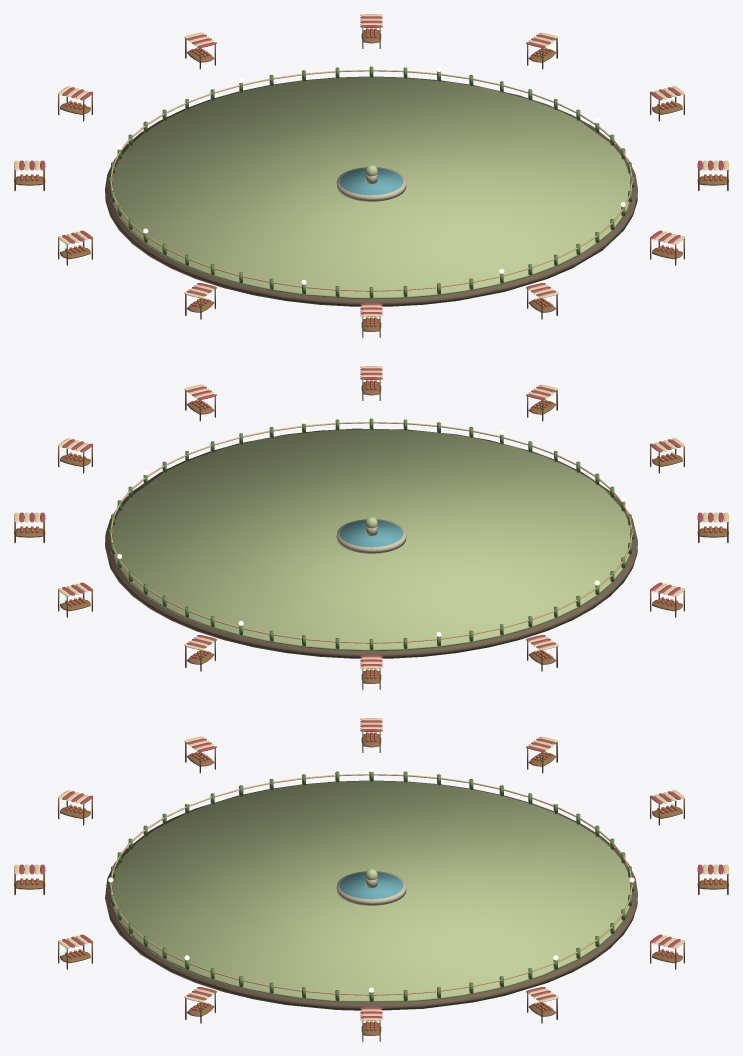
The model's file is carreras_arena_plaza.glb.
The picture shows the model from 3 angles, top to bottom: view 1: azimuth 30°, elevation 25°; view 2: azimuth 150°, elevation 25°; view 3: azimuth 270°, elevation 25°; orthographic projection.
Parts seen in each view (by area): view 1: suelo arena, base arena, agua fuente, fuente; view 2: suelo arena, base arena, agua fuente, fuente; view 3: suelo arena, base arena, agua fuente, fuente.
Part boxes in pixels (x1,y1,x2,y2): suelo arena: (110, 77, 632, 298); base arena: (105, 76, 637, 306); agua fuente: (339, 168, 403, 195); fuente: (336, 167, 406, 201); suelo arena: (110, 429, 632, 651); base arena: (105, 428, 637, 658); agua fuente: (339, 520, 403, 547); fuente: (336, 519, 406, 553); suelo arena: (110, 781, 632, 1002); base arena: (105, 780, 637, 1010); agua fuente: (339, 872, 403, 899); fuente: (336, 871, 406, 905).
Bounding box in the file's own units: 123 × 5.63 × 123.
